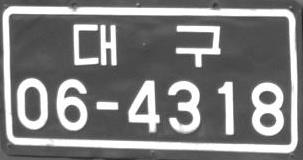0: (16, 76, 49, 129)
1: (211, 80, 244, 135)
3: (166, 80, 201, 133)
4: (127, 78, 160, 133)
6: (54, 76, 87, 131)
8: (250, 80, 285, 136)
대구_D: (72, 24, 222, 68)
